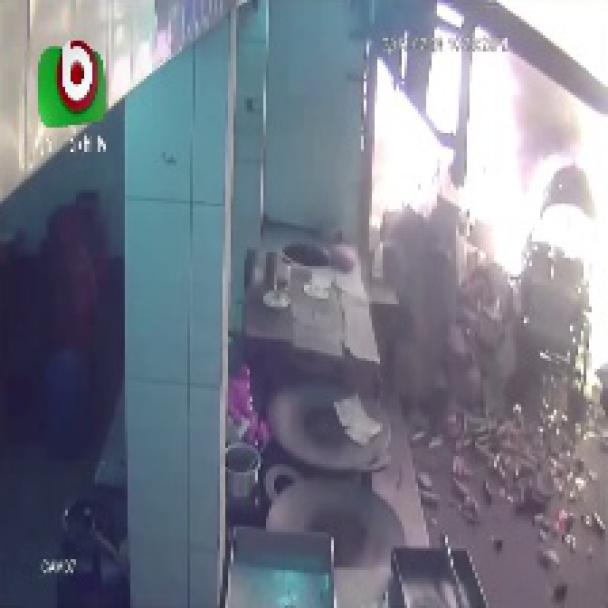Fire: (363, 0, 606, 454)
